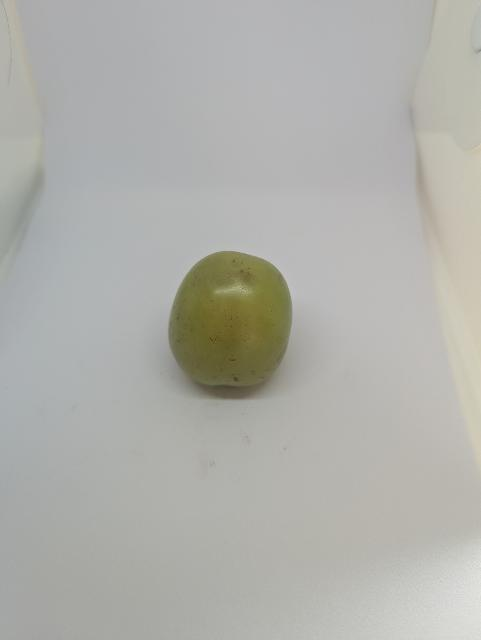green: (166, 246, 297, 398)
